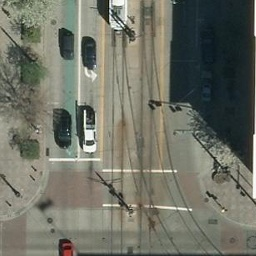car: (81, 107, 97, 152), (196, 69, 212, 107), (57, 110, 72, 147), (199, 24, 214, 58), (82, 35, 97, 69), (60, 30, 75, 60)
